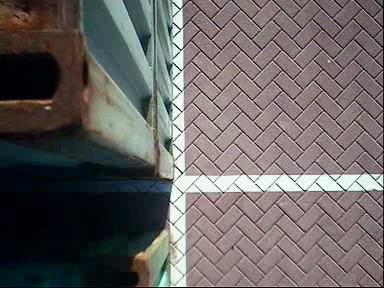groundmarker_2: (1, 170, 101, 240)
